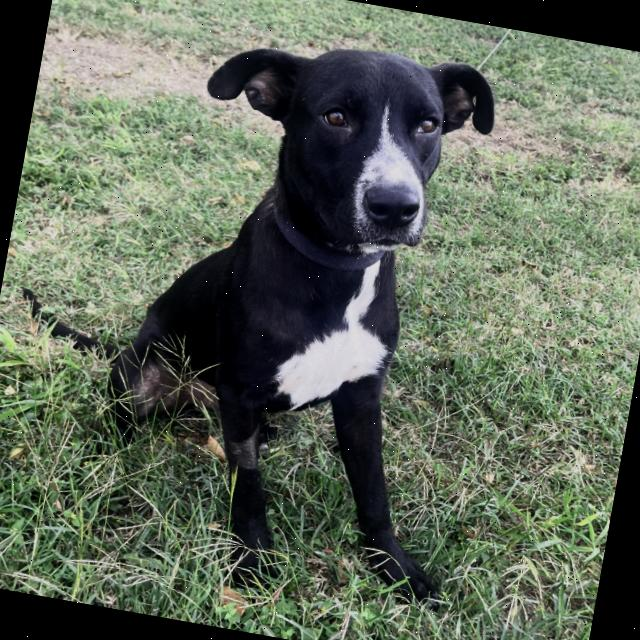labrador_retriever_dog: (175, 9, 514, 286)
